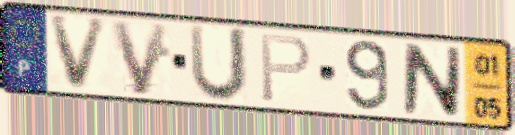9: (342, 38, 391, 113)
N: (400, 41, 464, 121)
P: (258, 32, 314, 106)
U: (186, 21, 251, 105)
V: (107, 18, 173, 98), (47, 14, 112, 92)
